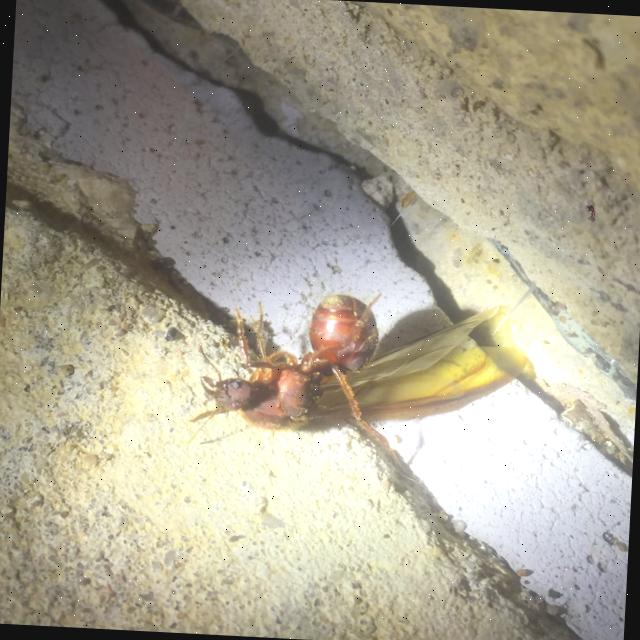Alive-Female-Alate: (185, 283, 532, 485)
